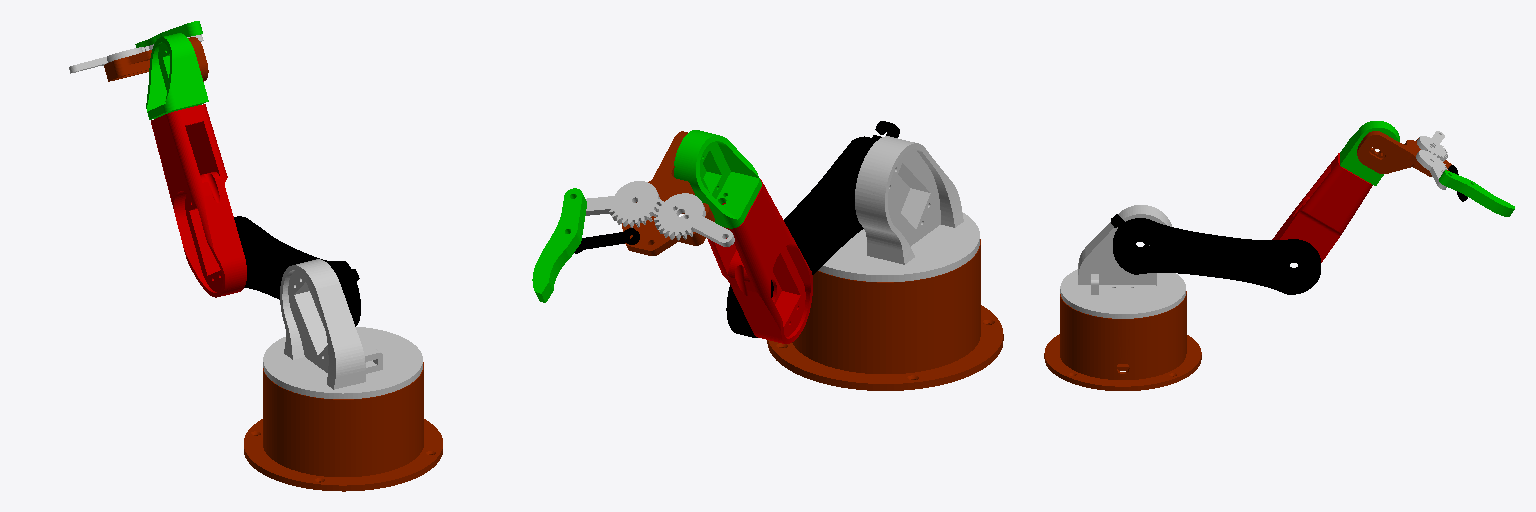
The robot description file, URDF, robot "ros_mani":
<?xml version="1.0"?>
<robot name="ros_mani">
	<link name="base_link">
		<visual>
			<geometry>
				<mesh filename="package://ros_manipulator_project/meshes/MeshBody1.stl" scale="0.002 0.002 0.002"/>
			</geometry>
			<material name="orange" />
			<origin rpy="1.57 0 0" xyz="-1.2 1.2 0" />
		</visual>
	</link>

	<link name="mani_lid_link">
		<visual>
			<geometry>
				<mesh filename="package://ros_manipulator_project/meshes/MeshBody2.stl" scale="0.002 0.002 0.002"/>
			</geometry>
			<material name="white" />
			<origin rpy="1.57 0 0" xyz="-0.96 0.96 0" />
		</visual>
	</link>

	<link name="mani_arm01_link">
		<visual>
			<geometry>
				<mesh filename="package://ros_manipulator_project/meshes/MeshBody3.stl" scale="0.002 0.002 0.002"/>
			</geometry>
			<material name="black" />
			<origin rpy="0 0 -0.15" xyz="-0.62 -0.42 0" />
		</visual>
	</link>

	<link name="mani_arm02_link">
		<visual>
			<geometry>
				<mesh filename="package://ros_manipulator_project/meshes/MeshBody4.stl" scale="0.002 0.002 0.002"/>
			</geometry>
			<material name="red" />
			<origin rpy="0 0 0" xyz="-0.38 -0.52 -0.12" />
		</visual>
	</link>

	<link name="mani_arm03_link">
		<visual>
			<geometry>
				<mesh filename="package://ros_manipulator_project/meshes/MeshBody5.stl" scale="0.002 0.002 0.002"/>
			</geometry>
			<material name="green" />
			<origin rpy="-1.57 0 0" xyz="-0.24 -0.28 0" />
		</visual>
	</link>

	<link name="mani_gripper_base_link">
		<visual>
			<geometry>
				<mesh filename="package://ros_manipulator_project/meshes/MeshBody6.stl" scale="0.002 0.002 0.002"/>
			</geometry>
			<material name="orange" />
			<origin rpy="-1.57 1.57 -1.57" xyz="-0.262 -0.28 0.25" />
		</visual>
	</link>

	<link name="mani_left_gear_link">
		<visual>
			<geometry>
				<mesh filename="package://ros_manipulator_project/meshes/MeshBody8.stl" scale="0.002 0.002 0.002"/>
			</geometry>
			<material name="white" />
			<origin rpy="1.57 3.1416 -1.2" xyz="0.52 -0.54 0" />
		</visual>
	</link>

	<link name="mani_right_gear_link">
		<visual>
			<geometry>
				<mesh filename="package://ros_manipulator_project/meshes/MeshBody7.stl" scale="0.002 0.002 0.002"/>
			</geometry>
			<material name="white" />
			<origin rpy="0 -1.2 0" xyz="0.18 0 -0.38" />
		</visual>
	</link>

	<link name="mani_left_gear_support_link">
		<visual>
			<geometry>
				<mesh filename="package://ros_manipulator_project/meshes/MeshBody9.stl" scale="0.002 0.002 0.002"/>
			</geometry>
			<material name="black" />
			<origin rpy="1.57 3.1416 1.84" xyz="-0.1 0.05 0" />
		</visual>
	</link>

	<link name="mani_right_gear_support_link">
		<visual>
			<geometry>
				<mesh filename="package://ros_manipulator_project/meshes/MeshBody10.stl" scale="0.002 0.002 0.002"/>
			</geometry>
			<material name="black" />
			<origin rpy="0 -1.2 -0.3" xyz="0.045 0 -0.1" />
		</visual>
	</link>

	<link name="mani_left_gripper_link">
		<visual>
			<geometry>
				<mesh filename="package://ros_manipulator_project/meshes/MeshBody11.stl" scale="0.002 0.002 0.002"/>
			</geometry>
			<material name="red" />
			<origin rpy="0 1.57 3.1416" xyz="1.2 0.1 0.02" />
		</visual>
	</link>

	<link name="mani_right_gripper_link">
		<visual>
			<geometry>
				<mesh filename="package://ros_manipulator_project/meshes/MeshBody12.stl" scale="0.002 0.002 0.002"/>
			</geometry>
			<material name="green" />
			<origin rpy="3.1416 -1.57 3.1416" xyz="1.213 -0.1 -0.15" />
		</visual>
	</link>

	<joint name="base_joint" type="revolute">
		<parent link="base_link" />
		<child link="mani_lid_link" />
		<axis xyz="0 0 1" />
		<limit effort="1000.0" lower="0.0" upper="3.1416" velocity="1.0" />
		<origin rpy="0 0 0" xyz="0 0 1.12" />
	</joint>

	<joint name="lid_joint" type="revolute">
		<parent link="mani_lid_link" />
		<child link="mani_arm01_link" />
		<axis xyz="0 0 1" />
		<limit effort="1000.0" lower="0.0" upper="3.1416" velocity="1.0" />
		<origin rpy="0 1.57 0" xyz="-0.07 0.25 0.83" />
	</joint>

	<joint name="arm01_joint" type="revolute">
		<parent link="mani_arm01_link" />
		<child link="mani_arm02_link" />
		<axis xyz="0 0 1" />
		<limit effort="1000.0" lower="0.0" upper="3.1416" velocity="1.0" />
		<origin rpy="0 3.1416 1" xyz="0.335 2.38 0" />
	</joint>

	<joint name="arm02_joint" type="revolute">
		<parent link="mani_arm02_link" />
		<child link="mani_arm03_link" />
		<axis xyz="0 0 1" />
		<limit effort="1000.0" lower="0.0" upper="3.1416" velocity="1.0" />
		<origin rpy="1.57 0 0" xyz="-0.1 1.8 0.15" />
	</joint>

	<joint name="arm03_joint" type="revolute">
		<parent link="mani_arm03_link" />
		<child link="mani_gripper_base_link" />
		<axis xyz="0 0 1" />
		<limit effort="1000.0" lower="0.0" upper="3.1416" velocity="1.0" />
		<origin rpy="1.57 3.1416 0" xyz="0.1 -0.3 -0.55" />
	</joint>

	<joint name="gripper_base_joint" type="revolute">
		<parent link="mani_gripper_base_link" />
		<child link="mani_left_gear_link" />
		<axis xyz="0 0 1" />
		<limit effort="1000.0" lower="0.0" upper="1.3" velocity="1.0" />
		<origin rpy="1.57 0 0" xyz="0.8 0.28 -0.4" />
	</joint>

	<joint name="sub_gripper_base_joint" type="revolute">
		<parent link="mani_gripper_base_link" />
		<child link="mani_right_gear_link" />
		<mimic joint="gripper_base_joint" />
		<axis xyz="0 1 0" />
		<limit effort="1000.0" lower="0.0" upper="1.3" velocity="1.0" />
		<origin rpy="0 0 0" xyz="0.77 0.28 0.15" />
	</joint>

	<joint name="gear_support_joint" type="revolute">
		<parent link="mani_gripper_base_link" />
		<child link="mani_left_gear_support_link" />
		<mimic joint="gripper_base_joint" />
		<axis xyz="0 0 1" />
		<limit effort="1000.0" lower="0.0" upper="1.3" velocity="1.0" />
		<origin rpy="1.57 0 0" xyz="1.18 0.28 -0.21" />
	</joint>

	<joint name="sub_gear_support_joint" type="revolute">
		<parent link="mani_gripper_base_link" />
		<child link="mani_right_gear_support_link" />
		<mimic joint="gear_support_joint" />
		<axis xyz="0 1 0" />
		<limit effort="1000.0" lower="0.0" upper="1.3" velocity="1.0" />
		<origin rpy="0 0 0" xyz="1.18 0.28 -0.005" />
	</joint>

	<joint name="gripper_joint" type="revolute">
		<parent link="mani_left_gear_link" />
		<child link="mani_left_gripper_link" />
		<mimic joint="gripper_base_joint" />
		<axis xyz="0 0 -1" />
		<limit effort="1000.0" lower="0.0" upper="1.3" velocity="1.0" />
		<origin rpy="0 0 0.42" xyz="0.15 -0.6 -0.1" />
	</joint>

	<joint name="sub_gripper_joint" type="revolute">
		<parent link="mani_right_gear_link" />
		<child link="mani_right_gripper_link" />
		<mimic joint="gripper_joint" />
		<axis xyz="0 0 1" />
		<limit effort="1000.0" lower="0.0" upper="1.3" velocity="1.0" />
		<origin rpy="1.57 0.32 0" xyz="0.23 0.1 0.57" />
	</joint>

	<material name="red">
		<color rgba="0.8 0 0 1" />
	</material>
	<material name="green">
		<color rgba="0 0.8 0 1" />
	</material>
	<material name="orange">
		<color rgba="0.57 0.17 0.0 1" />
	</material>
	<material name="white">
		<color rgba="0.8 0.8 0.8 1" />
	</material>
	<material name="black">
		<color rgba="0 0 0 1" />
	</material>
</robot>

--- Render facts (derived) ---
3 views of the same robot in one strip: view 1: azimuth 30°, elevation 25°; view 2: azimuth 150°, elevation 25°; view 3: azimuth 270°, elevation 25° (orthographic).
Model ros_mani with 12 links and 11 joints (11 revolute), rooted at base_link, posed every joint at zero.
Links seen in each view (by area): view 1: base_link, mani_lid_link, mani_arm02_link, mani_arm01_link, mani_arm03_link, mani_gripper_base_link, mani_left_gear_link, mani_right_gripper_link; view 2: base_link, mani_lid_link, mani_arm02_link, mani_arm01_link, mani_arm03_link, mani_right_gripper_link, mani_gripper_base_link, mani_left_gear_link, mani_right_gear_link, mani_right_gear_support_link; view 3: base_link, mani_arm01_link, mani_lid_link, mani_arm02_link, mani_gripper_base_link, mani_arm03_link, mani_right_gripper_link, mani_right_gear_link.
Boxes of the visible links, x1,y1,x2,y2 form: base_link: (244,362,442,491); mani_lid_link: (263,259,422,398); mani_arm02_link: (151,104,246,297); mani_arm01_link: (234,216,360,326); mani_arm03_link: (146,33,208,119); mani_gripper_base_link: (104,37,208,81); mani_left_gear_link: (69,47,144,73); mani_right_gripper_link: (135,21,202,47); base_link: (767,239,1003,390); mani_lid_link: (818,136,979,281); mani_arm02_link: (707,179,812,343); mani_arm01_link: (726,121,899,337); mani_arm03_link: (674,130,761,228); mani_right_gripper_link: (532,188,586,302); mani_gripper_base_link: (622,131,714,255); mani_left_gear_link: (654,193,734,246); mani_right_gear_link: (586,181,661,227); mani_right_gear_support_link: (574,228,639,253); base_link: (1044,291,1201,390); mani_arm01_link: (1111,214,1320,294); mani_lid_link: (1060,205,1185,318); mani_arm02_link: (1272,153,1372,262); mani_gripper_base_link: (1357,131,1451,176); mani_arm03_link: (1340,121,1399,185); mani_right_gripper_link: (1439,170,1514,216); mani_right_gear_link: (1416,150,1447,189).
Bounding box of the posed robot: 2.42 × 7.27 × 3.95 m (x, y, z).
Meshes: 12 distinct files referenced, 10 mesh visuals loaded (10 binary STL); not drawn: 2 (reference not matched to a file when rendering).